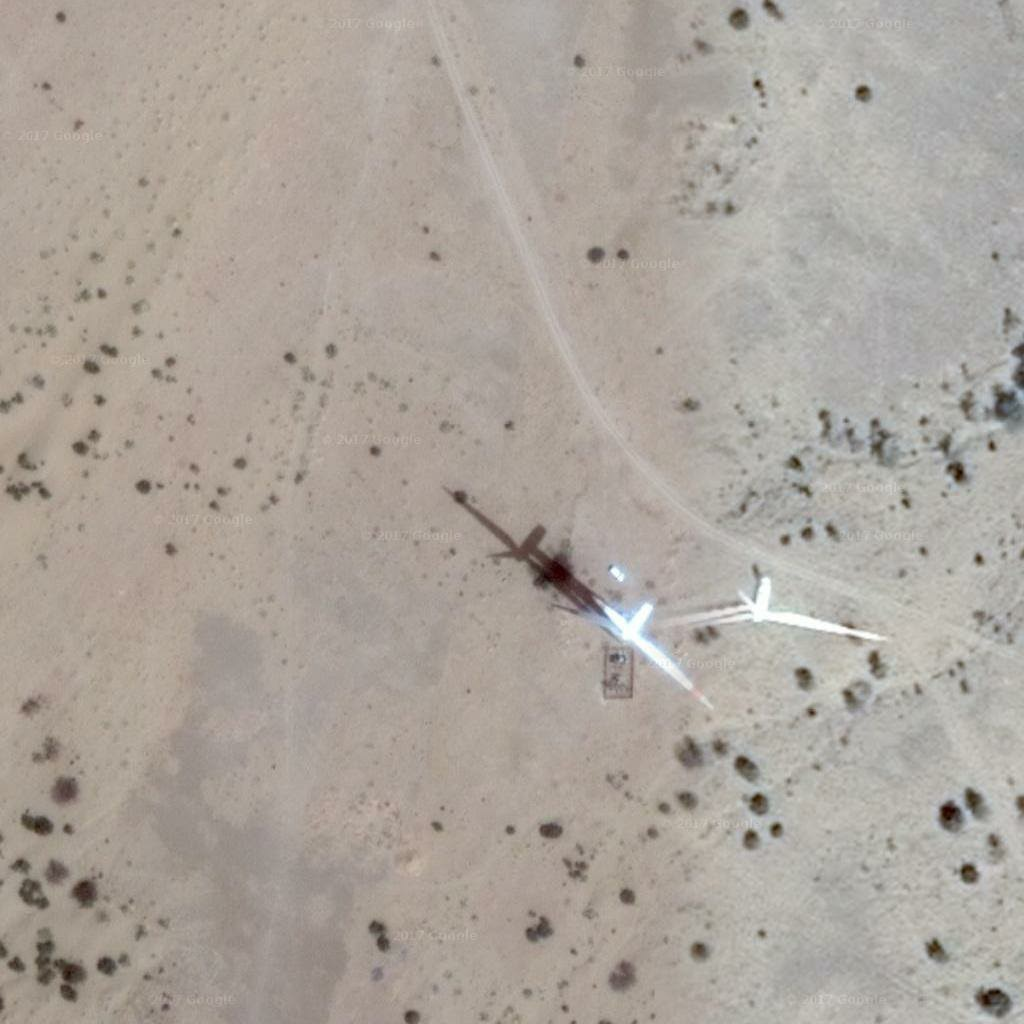Windmill: (442, 484, 606, 615)
